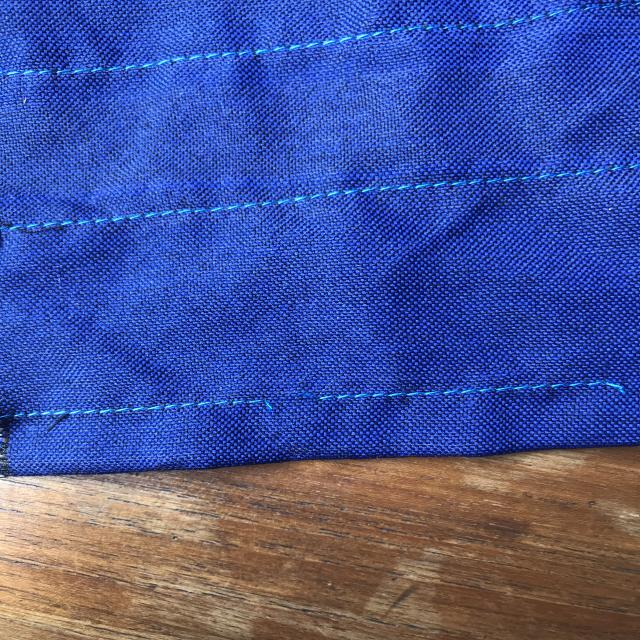broken: (242, 384, 354, 426)
good: (158, 200, 254, 228)
